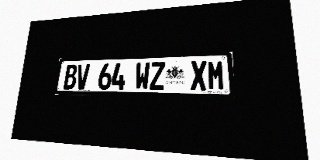4: (111, 63, 126, 90)
6: (98, 63, 113, 90)
B: (63, 64, 78, 89)
M: (207, 60, 225, 90)
V: (75, 64, 90, 90)
W: (135, 62, 150, 90)
X: (190, 60, 207, 90)
Z: (150, 62, 165, 90)
